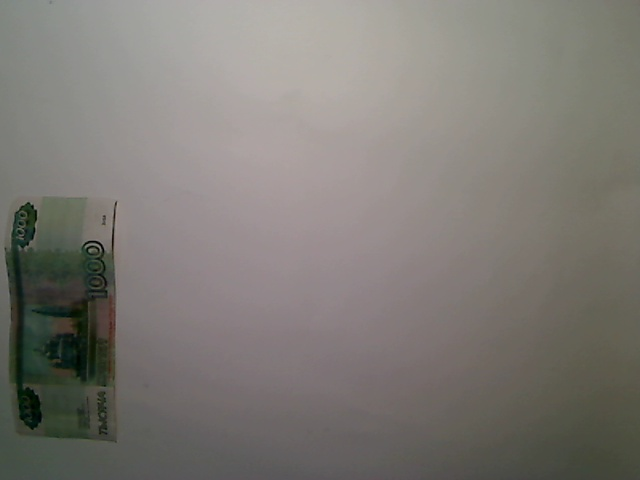banknotes: (1, 189, 121, 447)
